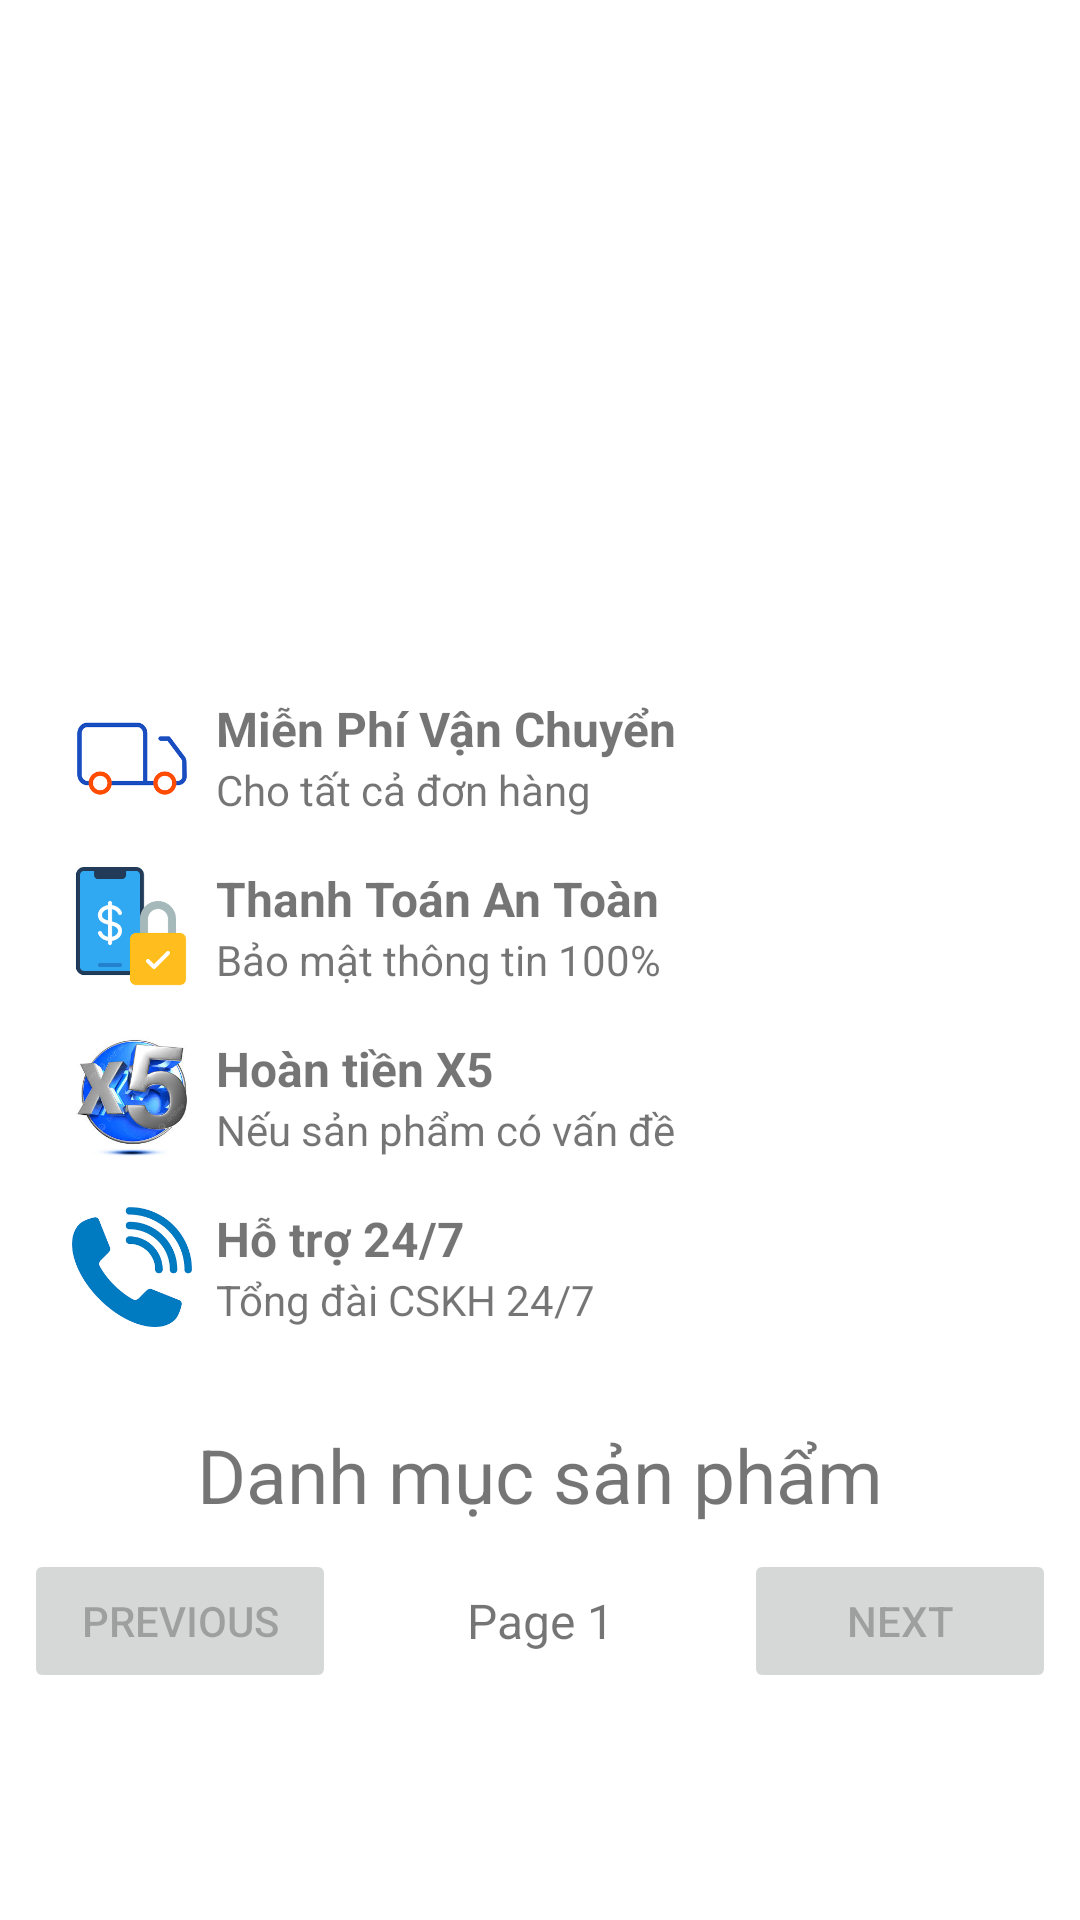

Screen size 1080 x 1920. Icon name, then its center in pixels as (x=x, y=y):
call: (x=132, y=1267)
payment secure: (x=131, y=926)
shipping: (x=132, y=758)
